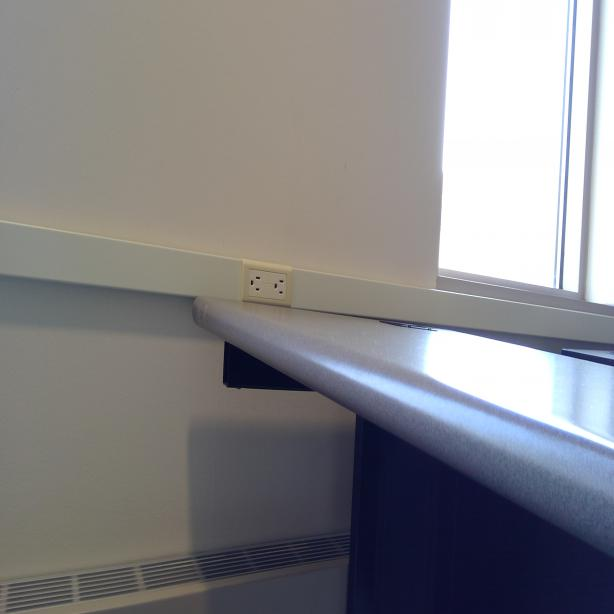typeb: (271, 275, 287, 302), (248, 268, 263, 294)
